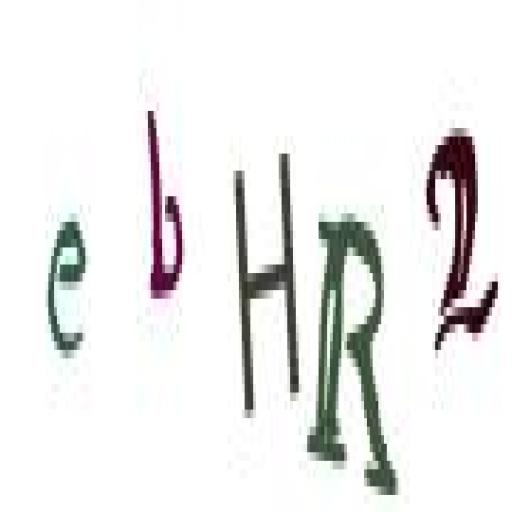2: (422, 101, 506, 373)
H: (229, 126, 302, 438)
R: (314, 194, 408, 512)
b: (141, 89, 189, 306)
e: (42, 197, 94, 379)
